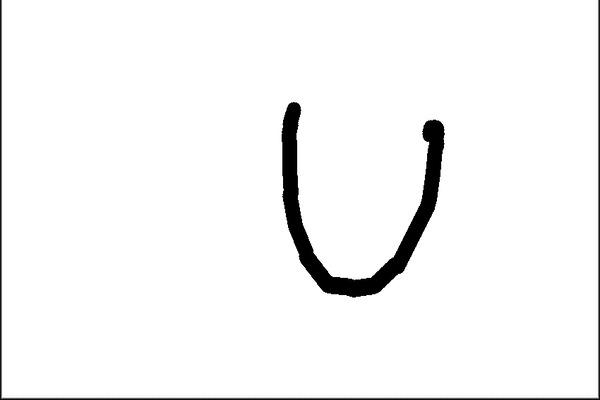U: (271, 97, 445, 299)
